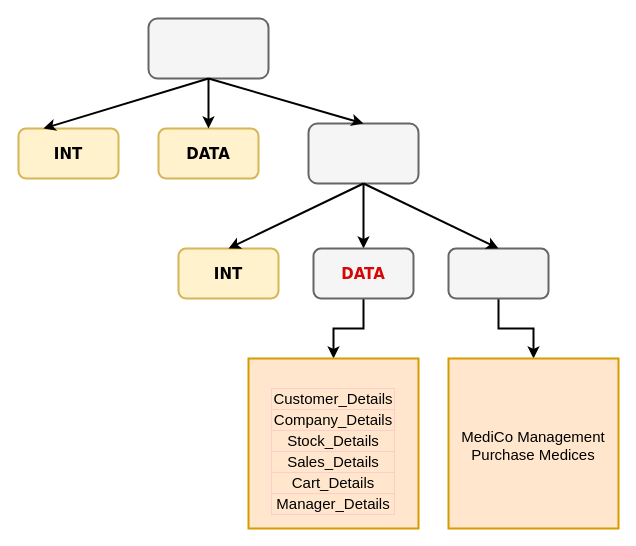
Image size: 636x546. Some labels were removed from this diagram. The centre of each missing label's shape, as x and y in pixels:
MDCo: point (363, 153)
MediCo: point (208, 48)
WORK: point (498, 273)
